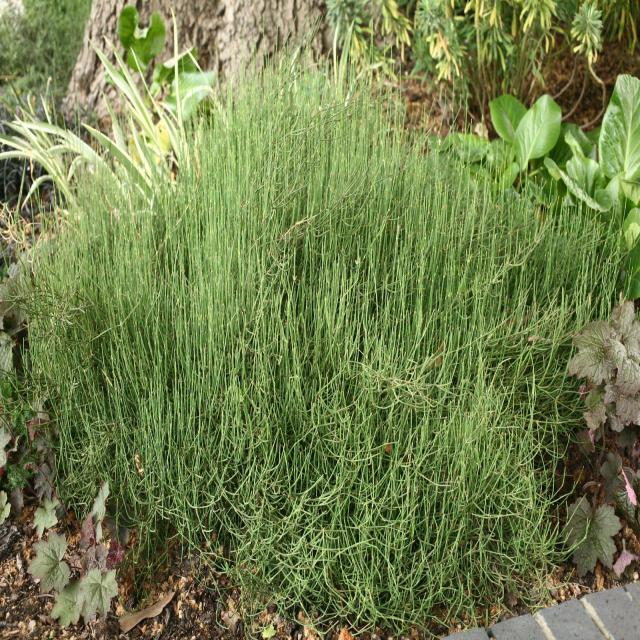Somavalli: (41, 170, 583, 569)
